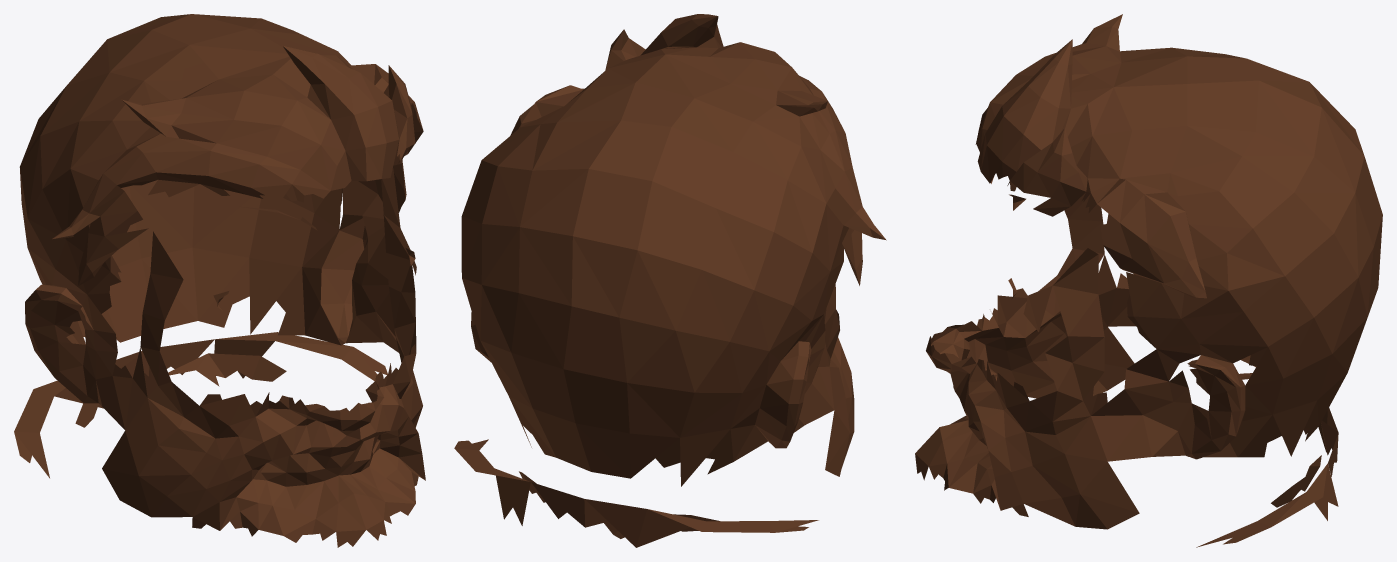
The model's file is haar.glb.
The picture shows the model from 3 angles, left to right: view 1: azimuth 30°, elevation 25°; view 2: azimuth 150°, elevation 25°; view 3: azimuth 270°, elevation 25°; orthographic projection. The views are drawn at different scales.
Visible parts, largest first — view 1: haar; view 2: haar; view 3: haar.
Part boxes in pixels (<box>): haar: <box>14,14,425,547</box>; haar: <box>454,14,886,547</box>; haar: <box>915,14,1382,547</box>.
Size of the model in its own units: 0.2641 by 0.2923 by 0.2826.
